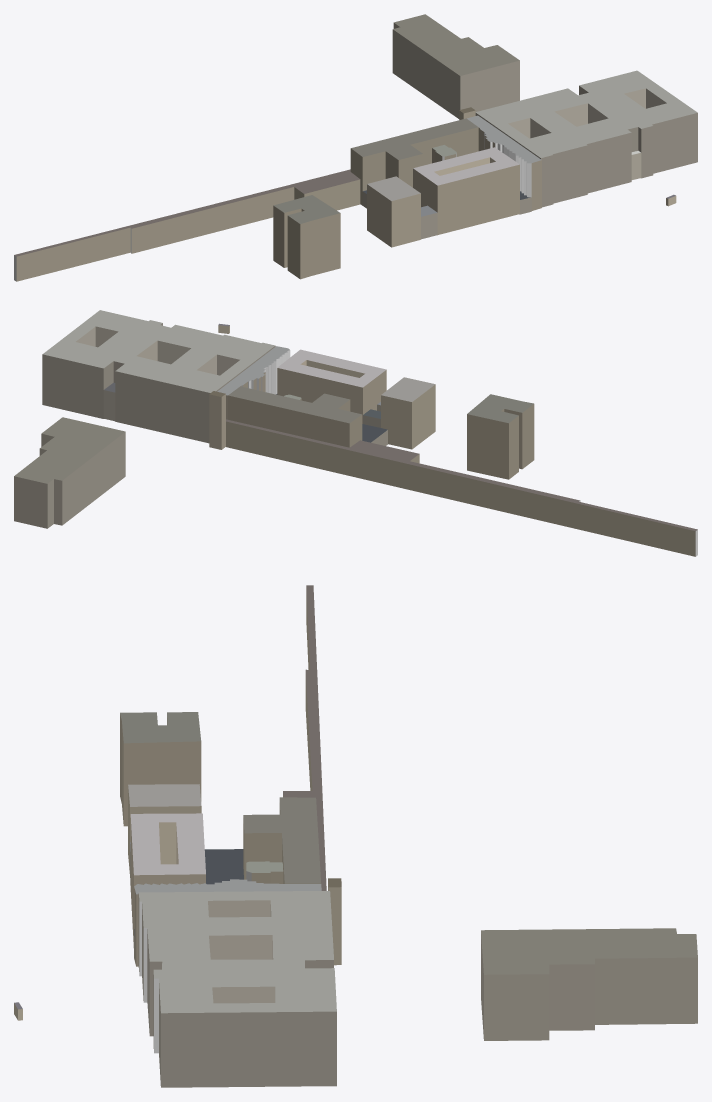
The picture shows the model from 3 angles, top to bottom: view 1: azimuth 30°, elevation 25°; view 2: azimuth 150°, elevation 25°; view 3: azimuth 270°, elevation 25°; orthographic projection. The views are drawn at different scales.
Visible parts, largest first — view 1: tuile; view 2: tuile; view 3: tuile.
Part boxes in pixels (x1,y1,x2,y2): tuile: [14, 14, 697, 281]; tuile: [14, 310, 697, 556]; tuile: [14, 585, 697, 1087].
Size of the model in its own units: 432 by 38.2 by 268.
